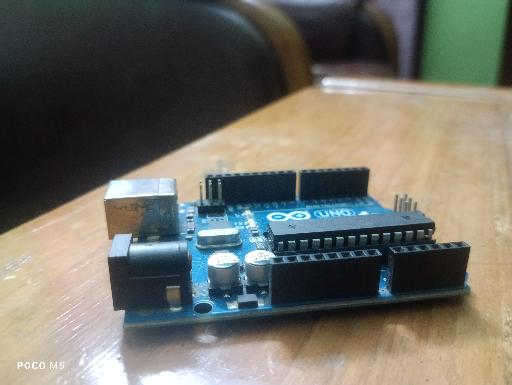Arduino: (103, 166, 471, 331)
